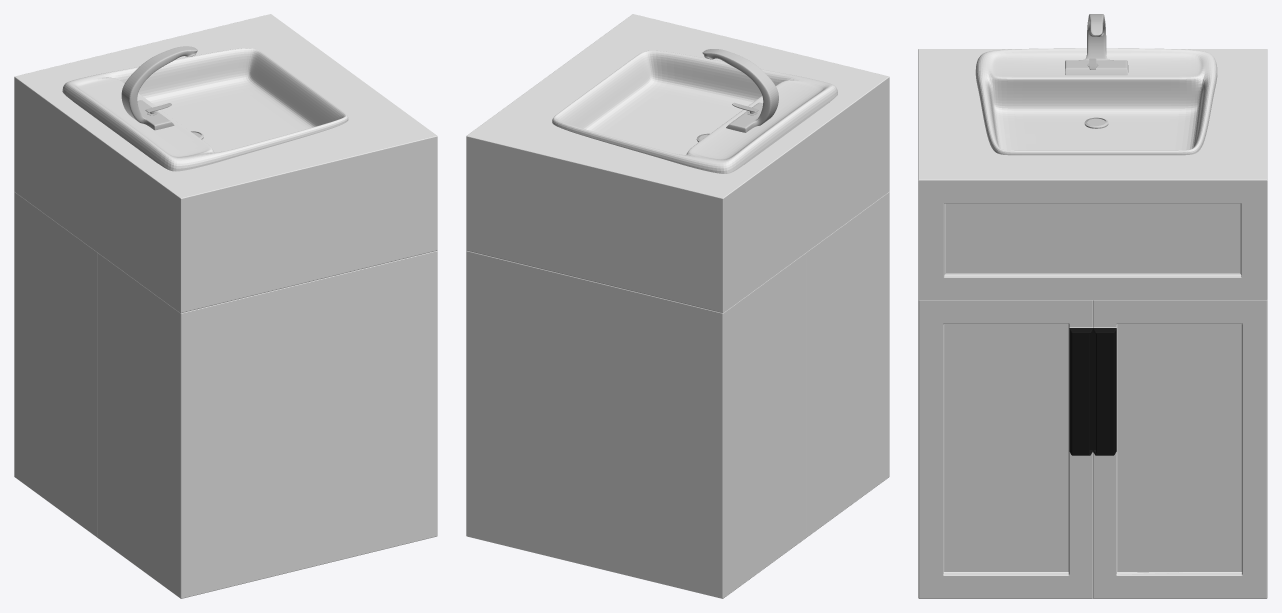
File: sf_4ff4cf0cedd5.glb
3 renders of one model, left to right at view 1: azimuth 30°, elevation 25°; view 2: azimuth 150°, elevation 25°; view 3: azimuth 270°, elevation 25°, orthographic. The views are drawn at different scales.
Visible parts, largest first — view 1: Cube.007_cupboard base.003_0, Cube_Material.002_0, Circle_Material.003_0; view 2: Cube.007_cupboard base.003_0, Cube_Material.002_0, Circle_Material.003_0; view 3: Cube.007_cupboard base.003_0, Cube_Material.002_0, Cube.007_Handle.003_0, Circle_Material.003_0.
Part boxes in pixels (left/top/right/bottom): Cube.007_cupboard base.003_0: left=14, top=14, right=437, bottom=598; Cube_Material.002_0: left=62, top=48, right=348, bottom=171; Circle_Material.003_0: left=121, top=46, right=203, bottom=139; Cube.007_cupboard base.003_0: left=466, top=14, right=889, bottom=598; Cube_Material.002_0: left=552, top=50, right=837, bottom=173; Circle_Material.003_0: left=696, top=49, right=778, bottom=141; Cube.007_cupboard base.003_0: left=918, top=49, right=1267, bottom=598; Cube_Material.002_0: left=975, top=48, right=1217, bottom=155; Cube.007_Handle.003_0: left=1069, top=328, right=1116, bottom=455; Circle_Material.003_0: left=1065, top=14, right=1128, bottom=128.
Size of the model in its own units: 549 by 923 by 598.
4 materials, 4 textured.
